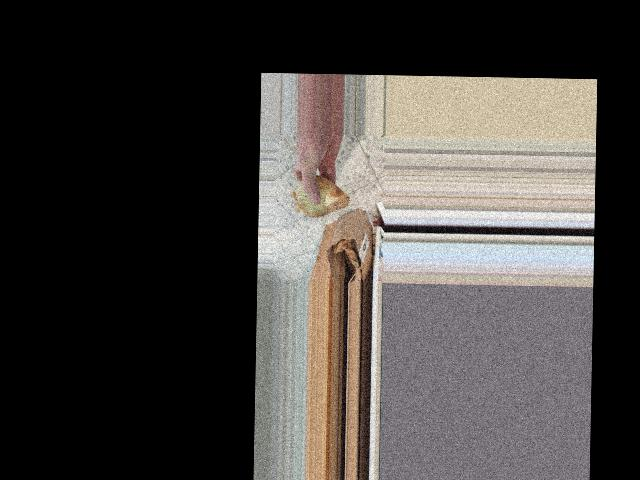onion: (290, 172, 350, 219)
